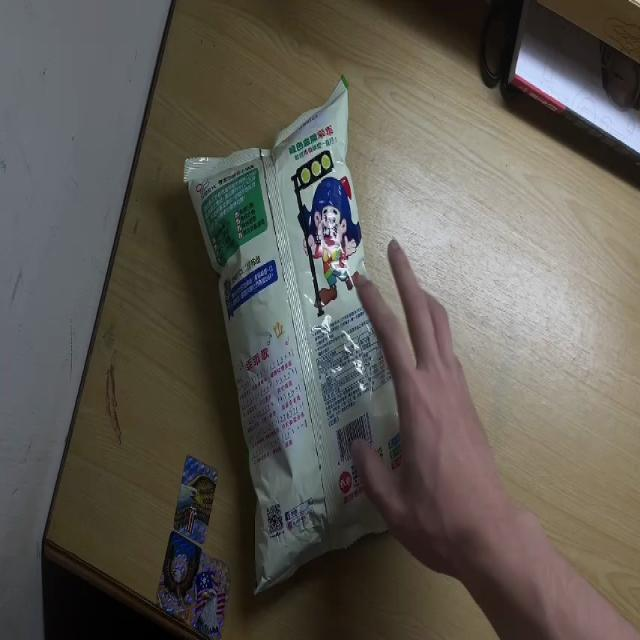Good-Luck: (181, 76, 425, 596)
